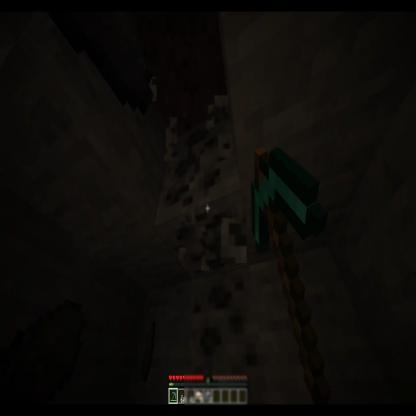coal ore: (159, 105, 246, 263), (184, 271, 262, 416)
